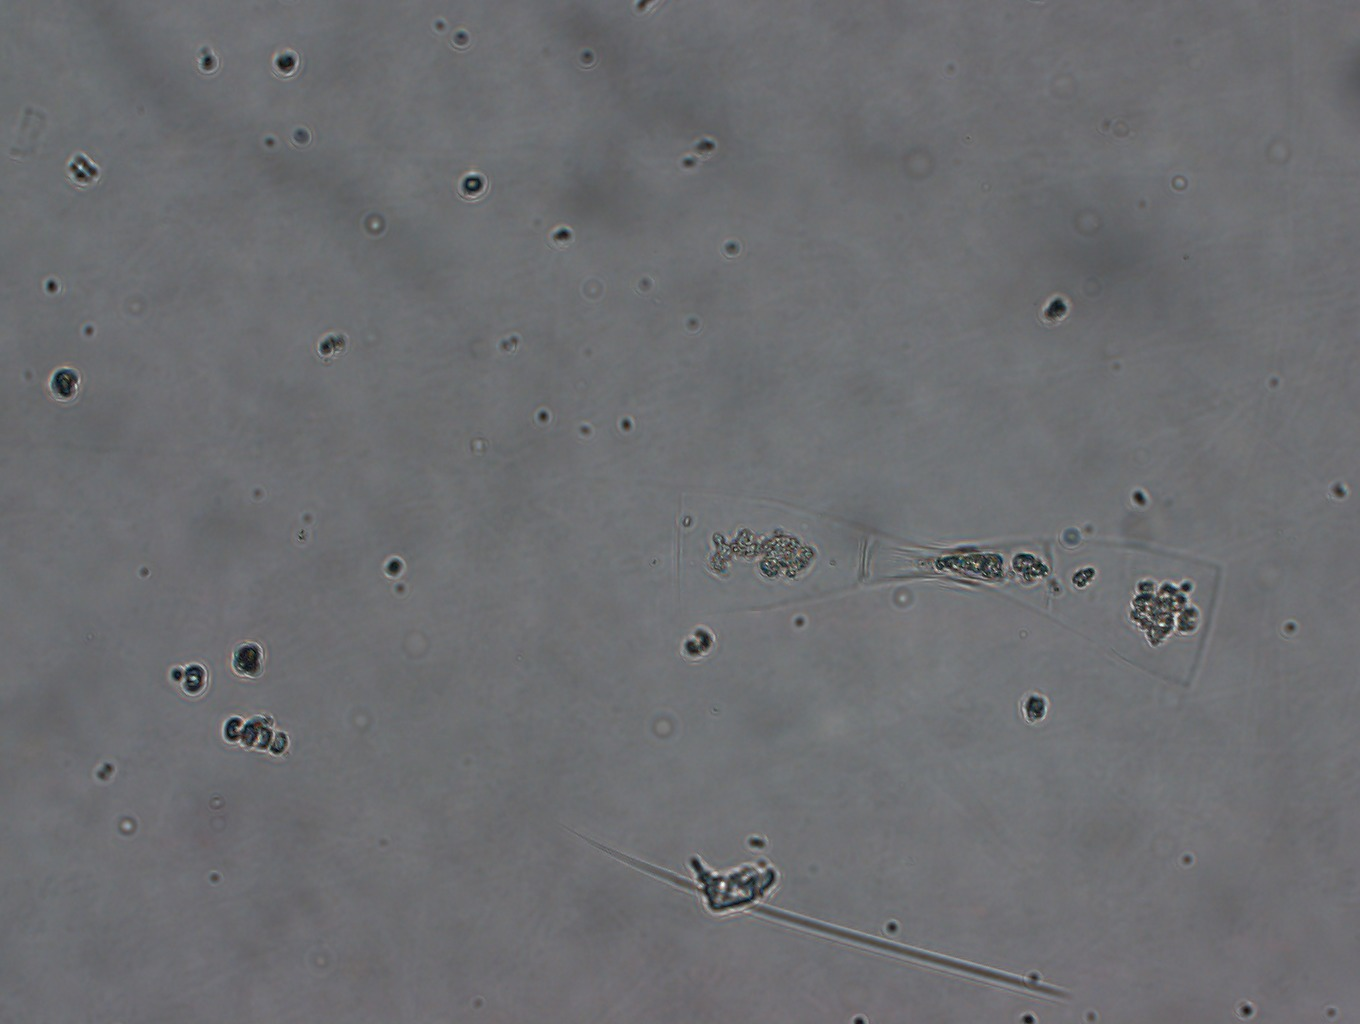helicotheca: (664, 468, 1231, 715)
